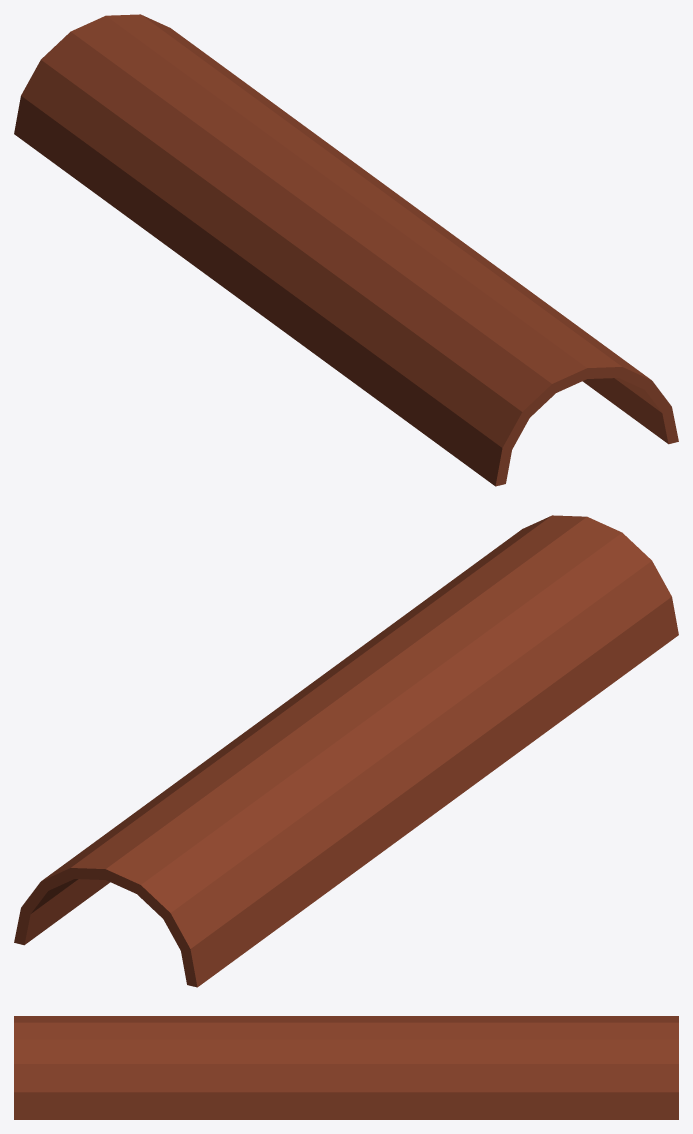
The model's file is MH_Roof_Ridge_Nok2m.fbx.
The picture shows the model from 3 angles, top to bottom: view 1: azimuth 30°, elevation 25°; view 2: azimuth 150°, elevation 25°; view 3: azimuth 270°, elevation 25°; orthographic projection. The views are drawn at different scales.
Visible parts, largest first — view 1: Body; view 2: Body; view 3: Body.
Boxes of the visible parts, x1,y1,x2,y2 form: Body: [14, 14, 678, 486]; Body: [14, 515, 678, 987]; Body: [14, 1016, 678, 1119].
Size of the model in its own units: 0.44 by 0.22 by 2.
